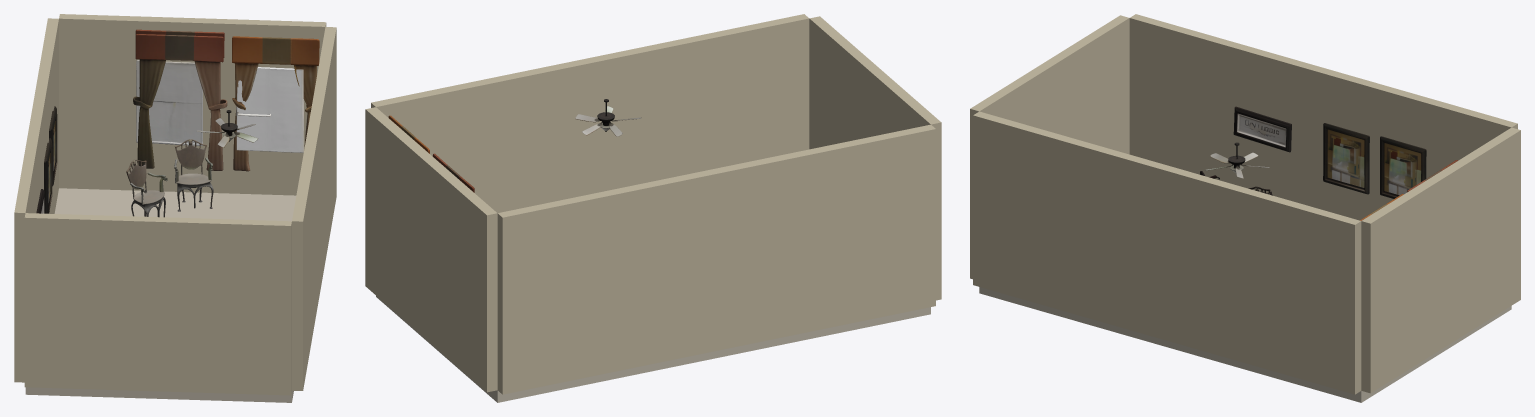
The model's file is stage3.glb.
3 renders of one model, left to right at view 1: azimuth 30°, elevation 25°; view 2: azimuth 150°, elevation 25°; view 3: azimuth 270°, elevation 25°, orthographic. The views are drawn at different scales.
Parts seen in each view (by area): view 1: Wall_01, Floor, geometry_0.013, geometry_0.007, geometry_0.011, geometry_0.012, geometry_0.014, geometry_0.003, geometry_0.001; view 2: Wall_01, Floor, geometry_0.001; view 3: Wall_01, geometry_0.003, Floor, geometry_0.002, geometry_0.001.
Part boxes in pixels (bbox=[...]): Wall_01: bbox=[14, 14, 336, 395]; Floor: bbox=[25, 188, 296, 402]; geometry_0.013: bbox=[133, 29, 227, 170]; geometry_0.007: bbox=[236, 67, 303, 152]; geometry_0.011: bbox=[232, 36, 319, 171]; geometry_0.012: bbox=[136, 60, 202, 145]; geometry_0.014: bbox=[126, 139, 213, 217]; geometry_0.003: bbox=[44, 106, 57, 213]; geometry_0.001: bbox=[197, 110, 257, 147]; Wall_01: bbox=[365, 14, 941, 394]; Floor: bbox=[376, 296, 930, 402]; geometry_0.001: bbox=[575, 99, 641, 136]; Wall_01: bbox=[970, 14, 1520, 394]; geometry_0.003: bbox=[1323, 123, 1426, 198]; Floor: bbox=[979, 287, 1511, 402]; geometry_0.002: bbox=[1233, 106, 1291, 152]; geometry_0.001: bbox=[1205, 142, 1269, 178].
Bounding box in the file's own units: 11.13 × 4.48 × 12.28.
16 materials, 14 textured.
